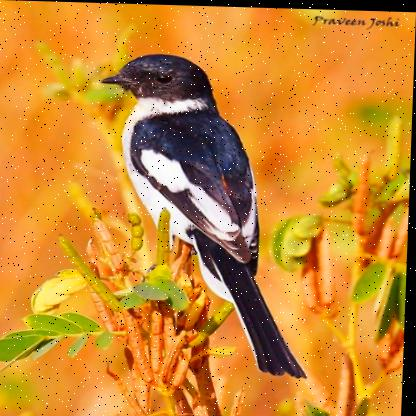Burung: (92, 51, 318, 377)
